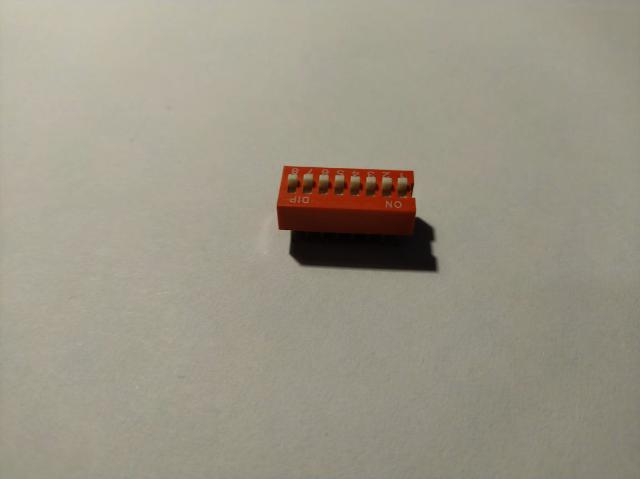dip_switch: (276, 164, 416, 248)
